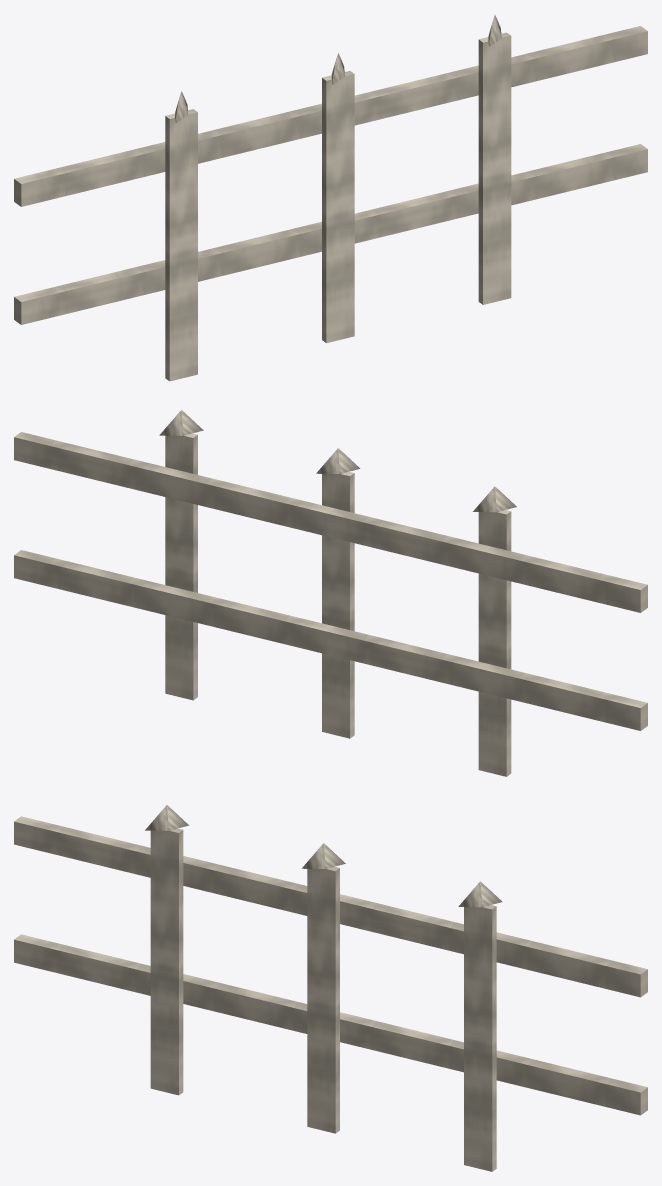
File: fence-rail.glb
The picture shows the model from 3 angles, top to bottom: view 1: azimuth 30°, elevation 25°; view 2: azimuth 150°, elevation 25°; view 3: azimuth 330°, elevation 25°; orthographic projection.
Parts seen in each view (by area): view 1: fence-rail; view 2: fence-rail; view 3: fence-rail.
Boxes of the visible parts, x1,y1,x2,y2 form: fence-rail: (14,15,647,381); fence-rail: (14,410,647,776); fence-rail: (14,805,647,1171).
Bounding box in the file's own units: 2 × 0.87 × 0.1053.
1 material, 1 textured.
